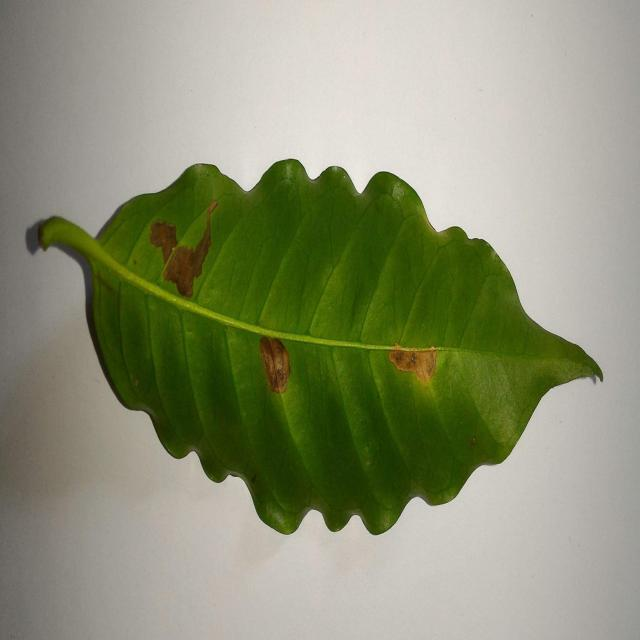miner: (149, 200, 218, 298), (248, 326, 298, 394), (389, 342, 438, 384)
